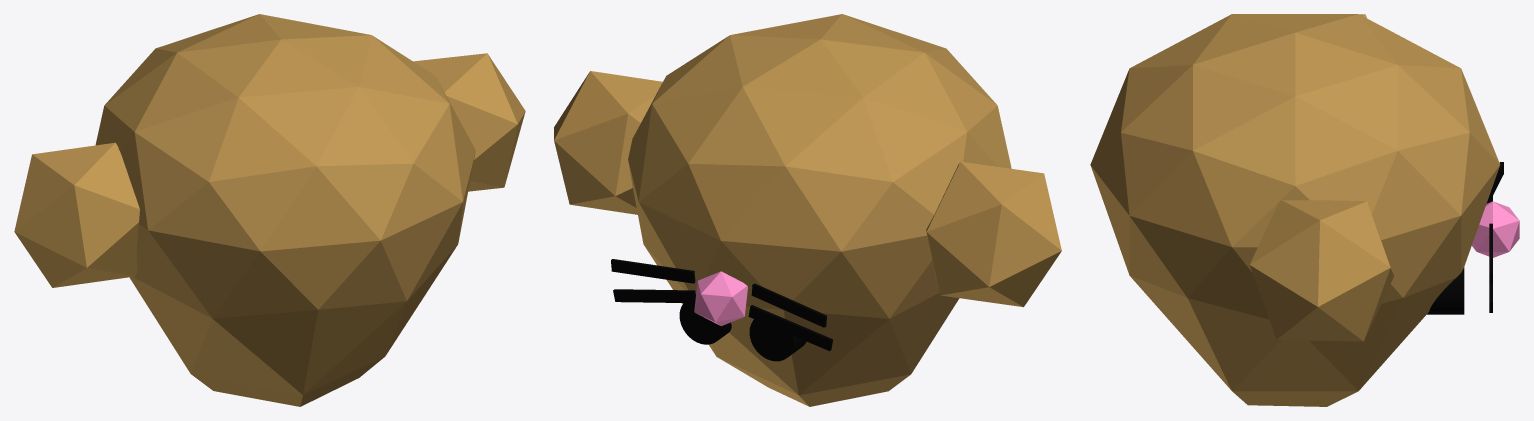
Rendered from moleblend.fbx.
3 renders of one model, left to right at view 1: azimuth 30°, elevation 25°; view 2: azimuth 150°, elevation 25°; view 3: azimuth 270°, elevation 25°, orthographic. The views are drawn at different scales.
Visible parts, largest first — view 1: Icosphere, Icosphere.002, Icosphere.003; view 2: Icosphere, Icosphere.002, Icosphere.003, Icosphere.001, Cylinder.001, Cylinder, Cube.002, Cube.001, Cube, Cube.003; view 3: Icosphere, Icosphere.003, Icosphere.001, Cylinder.
Boxes of the visible parts, <box> form: Icosphere: <box>95,14,475,406</box>; Icosphere.002: <box>14,142,139,287</box>; Icosphere.003: <box>413,53,525,191</box>; Icosphere: <box>628,14,1011,406</box>; Icosphere.002: <box>926,161,1061,307</box>; Icosphere.003: <box>554,71,662,214</box>; Icosphere.001: <box>694,271,747,326</box>; Cylinder.001: <box>749,319,806,361</box>; Cylinder: <box>679,303,731,344</box>; Cube.002: <box>748,305,832,350</box>; Cube.001: <box>611,259,695,283</box>; Cube: <box>613,289,695,303</box>; Cube.003: <box>751,283,826,327</box>; Icosphere: <box>1090,14,1500,406</box>; Icosphere.003: <box>1250,200,1393,341</box>; Icosphere.001: <box>1472,201,1519,257</box>; Cylinder: <box>1427,267,1464,314</box>.
Bounding box in the file's own units: 1936 × 1289 × 1372.
